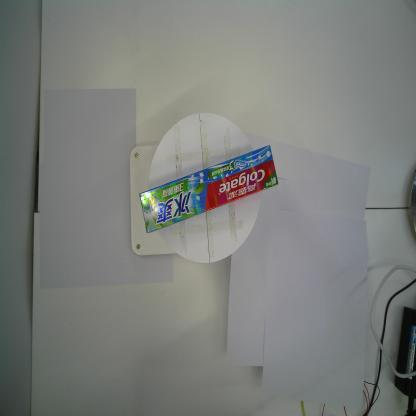Personal Hygiene: (138, 146, 279, 234)
